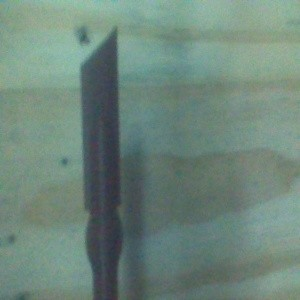cutter: (79, 23, 125, 300)
